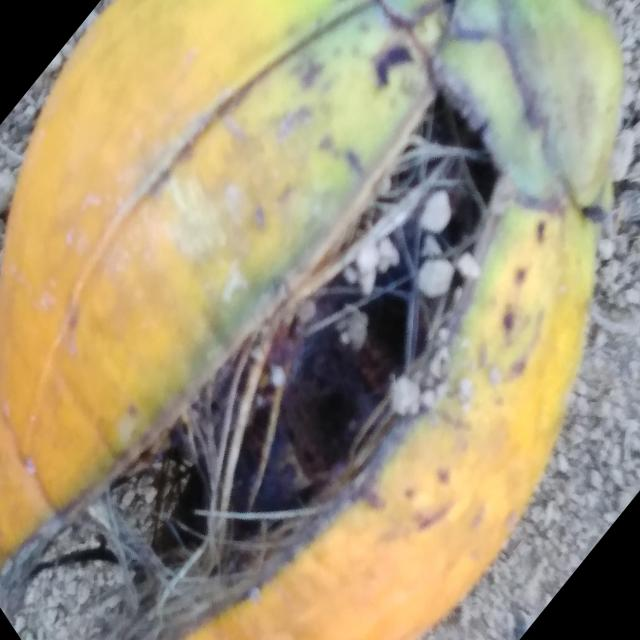damaged: (0, 0, 636, 640)
